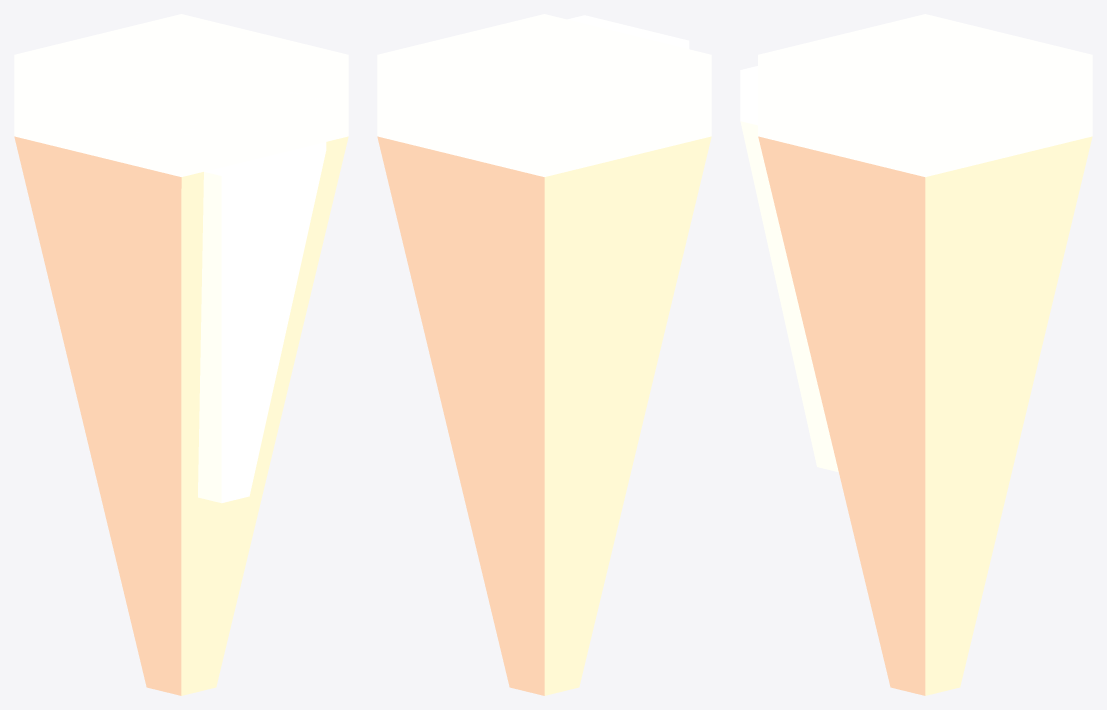
The model's file is flame.glb.
The picture shows the model from 3 angles, left to right: view 1: azimuth 30°, elevation 25°; view 2: azimuth 150°, elevation 25°; view 3: azimuth 270°, elevation 25°; orthographic projection.
Parts seen in each view (by area): view 1: Sheath, Core; view 2: Sheath, Core; view 3: Sheath, Core.
Part boxes in pixels (x1=…): Sheath: x1=14, y1=14, x2=348, y2=695; Core: x1=117, y1=77, x2=326, y2=503; Sheath: x1=377, y1=14, x2=711, y2=695; Core: x1=563, y1=15, x2=689, y2=111; Sheath: x1=758, y1=14, x2=1092, y2=695; Core: x1=740, y1=66, x2=946, y2=472.
Bounding box in the file's own units: 0.48 × 0.8 × 0.4377.
